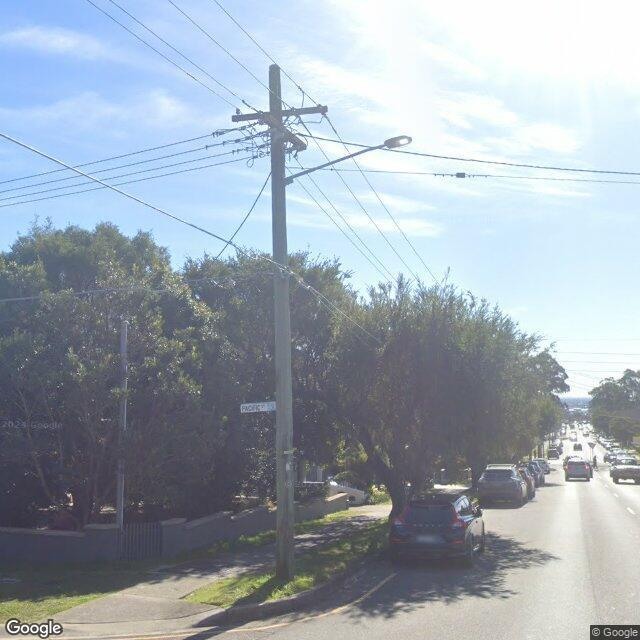crossarm: (205, 111, 308, 168), (232, 107, 328, 124)
steel-pole: (116, 319, 127, 525)
streetlight: (284, 134, 413, 186)
timber-pole: (268, 62, 295, 579)
